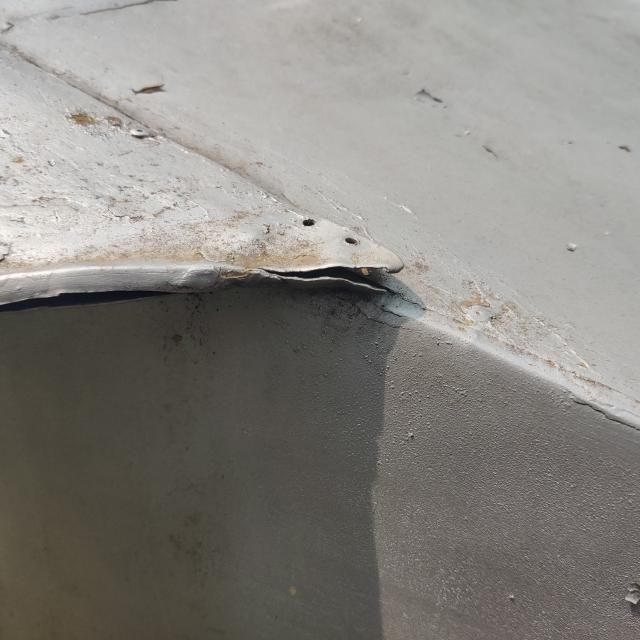crack: (248, 241, 418, 320)
